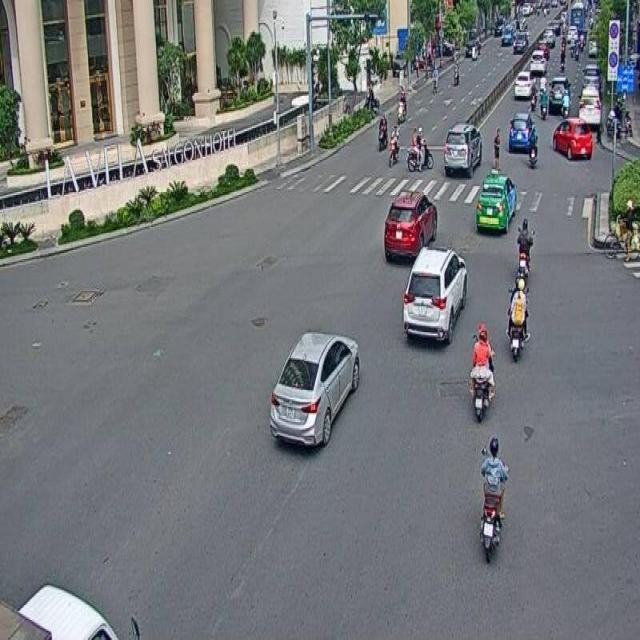car: (271, 331, 360, 446), (402, 245, 468, 346), (383, 189, 437, 257), (475, 174, 517, 233), (443, 120, 482, 177)
motorcycle: (479, 436, 508, 564), (469, 323, 494, 424), (504, 278, 530, 364), (406, 127, 434, 172), (516, 218, 535, 274)
